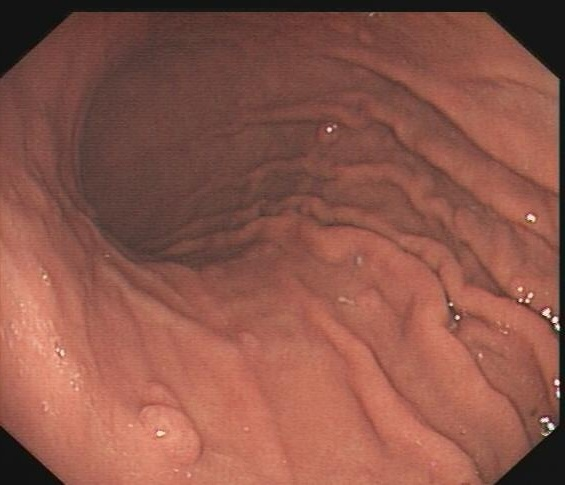Polyp: (131, 392, 204, 467)
